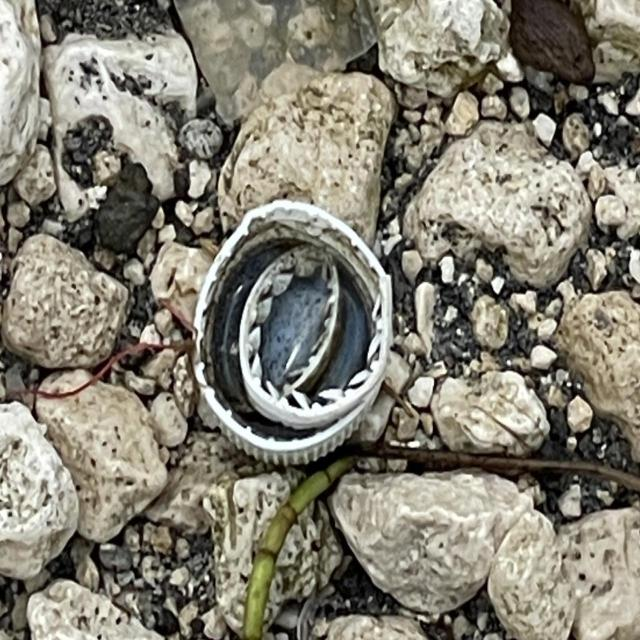plastic_waste: (191, 198, 395, 470)
